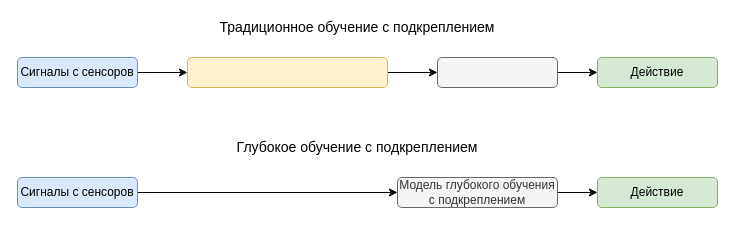
The diagram is 735 pixels wide and 225 high, and some of its shapes have lost their labels. The shapes that lost their labels are listed below. From the top down, each one's centre as x and y in pixels, then its label:
point (287, 72): Подготовленный вручную низкоразмерный ввод состояния
point (497, 72): Модель обучения с подкреплением
